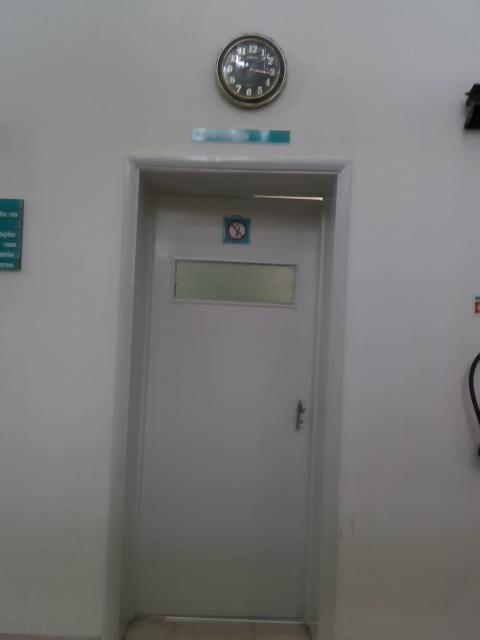door: (135, 198, 320, 620)
